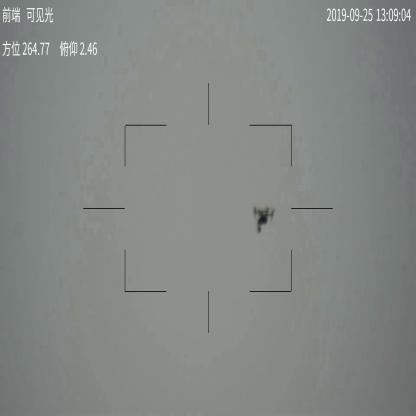uav: (251, 203, 278, 234)
